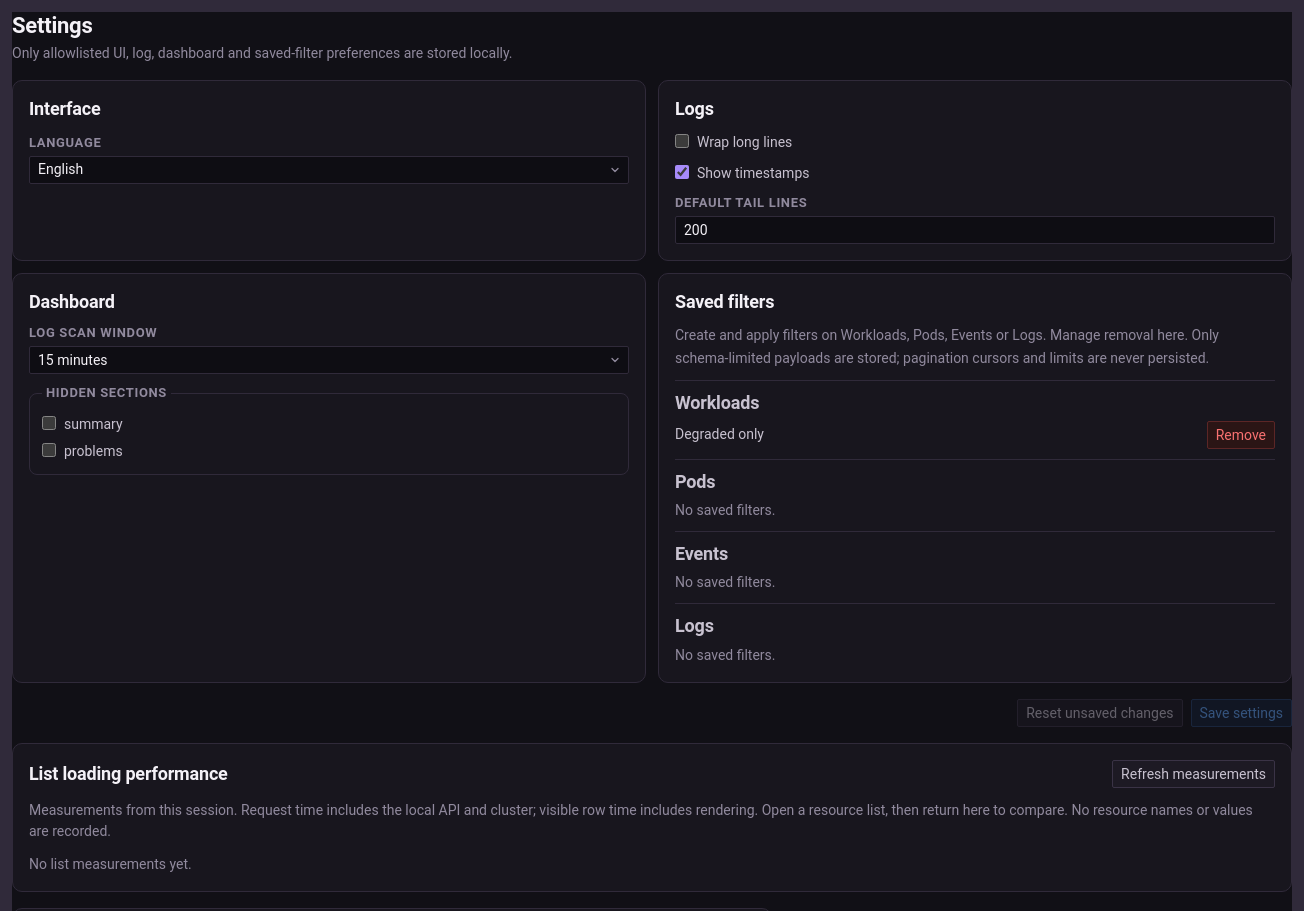
Scenario: allowlisted settings › updates only owned sections with CSRF and preserves concurrent/future preference fields
Expected: the text "Degraded only" is shown, [675, 424, 764, 445]
Step 1. Click the button "Remove" → click(1241, 435), box [1207, 421, 1275, 449]
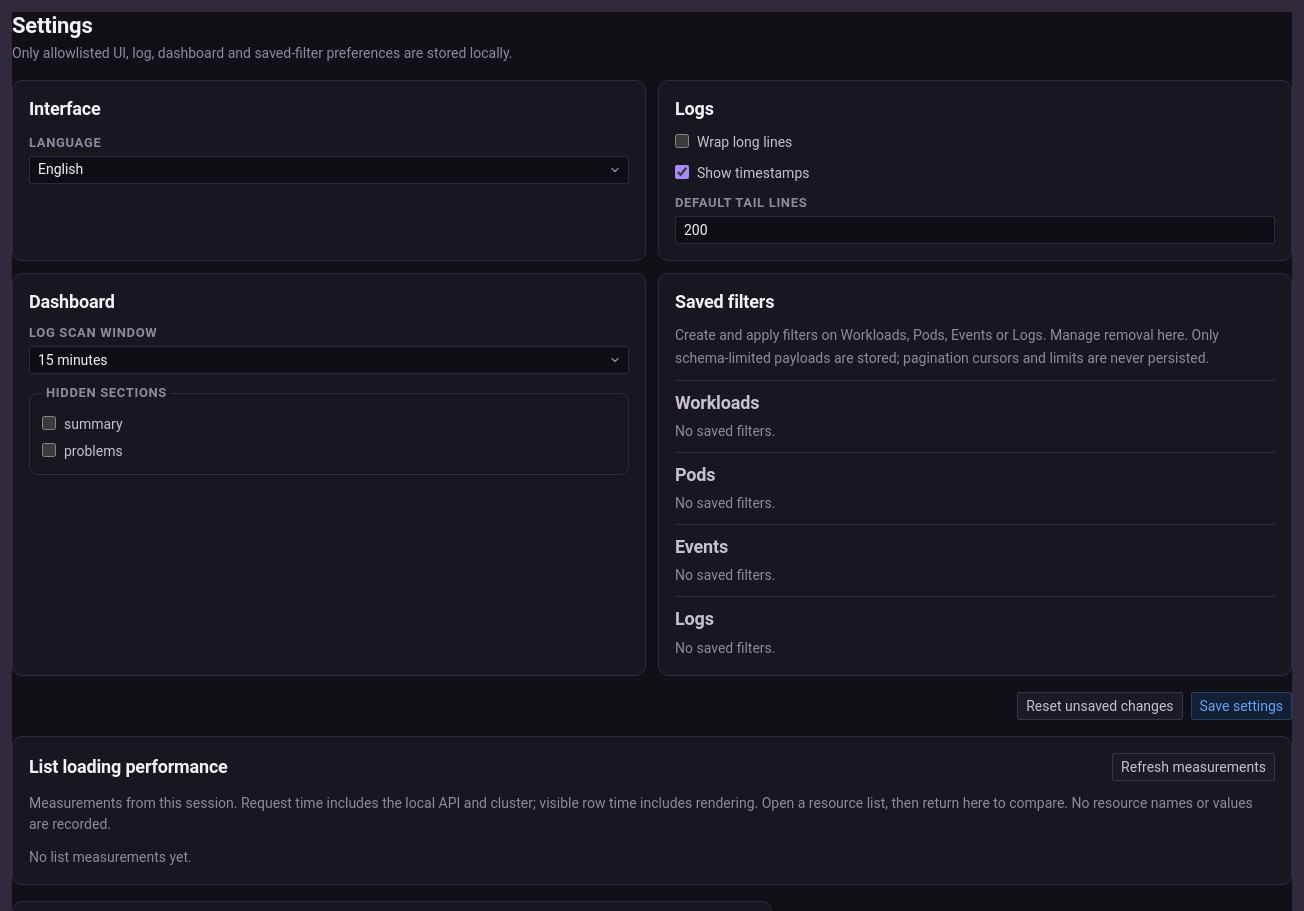
Step 2. Replace the text in the number field labelled "Default tail lines" with "350" → (975, 230), box [675, 216, 1275, 244]
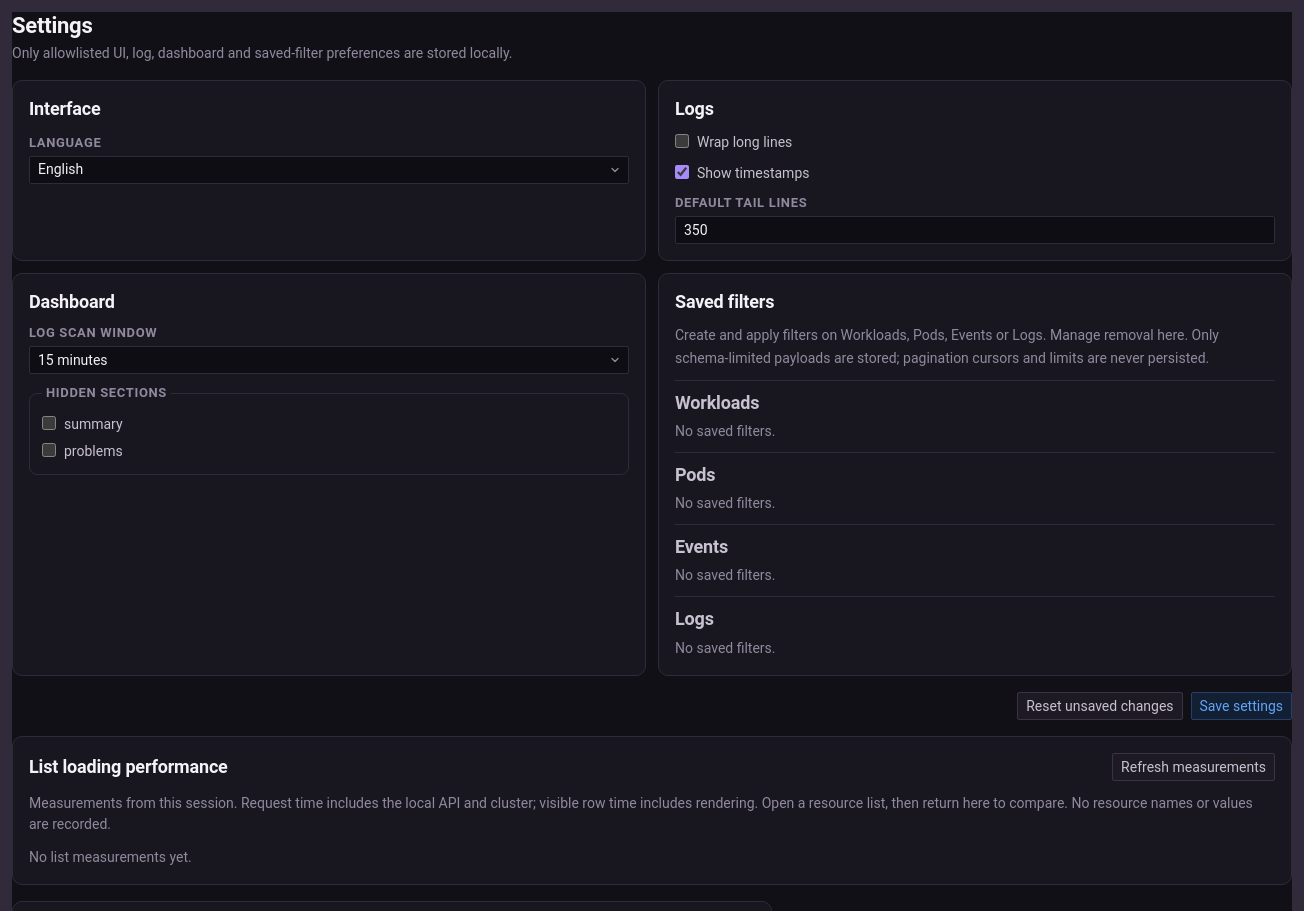
Step 3. Click the button "Save settings" → click(1241, 706), box [1190, 692, 1292, 720]
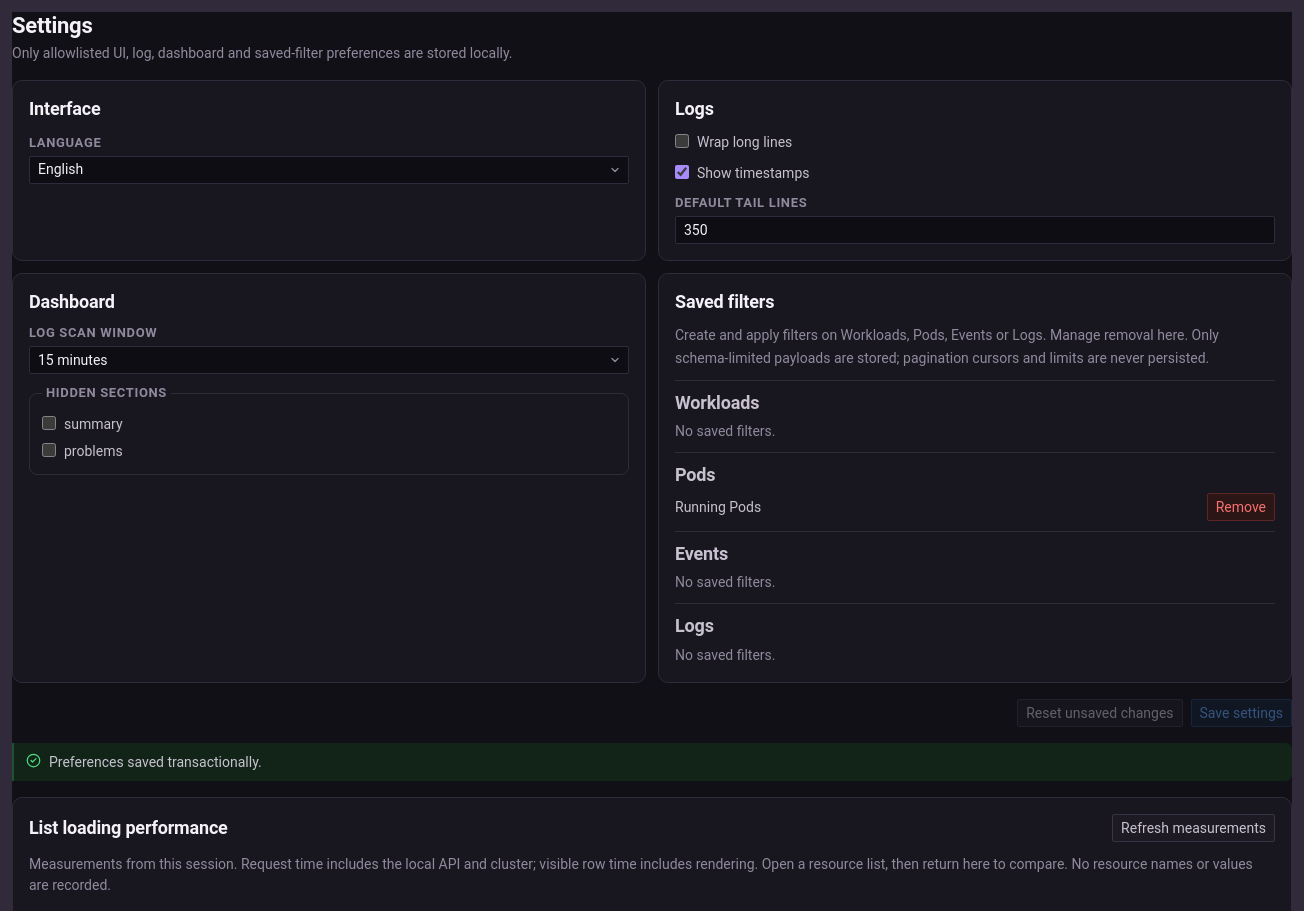
Expected: the text "Degraded only" is not shown
Now the message shows "Preferences saved transactionally", box [49, 754, 262, 770]
